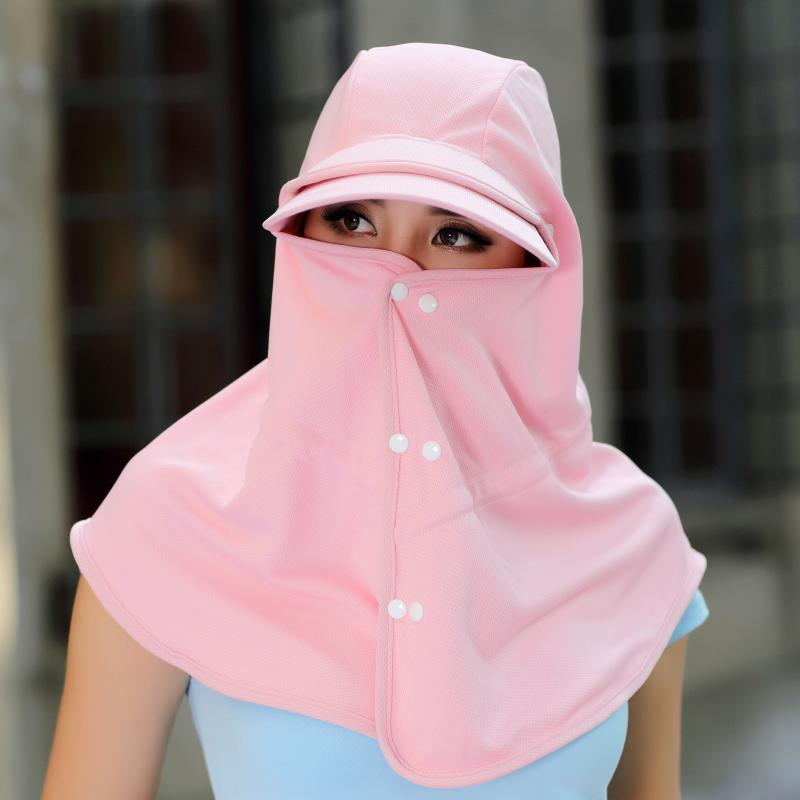face_mask: (293, 153, 543, 422)
